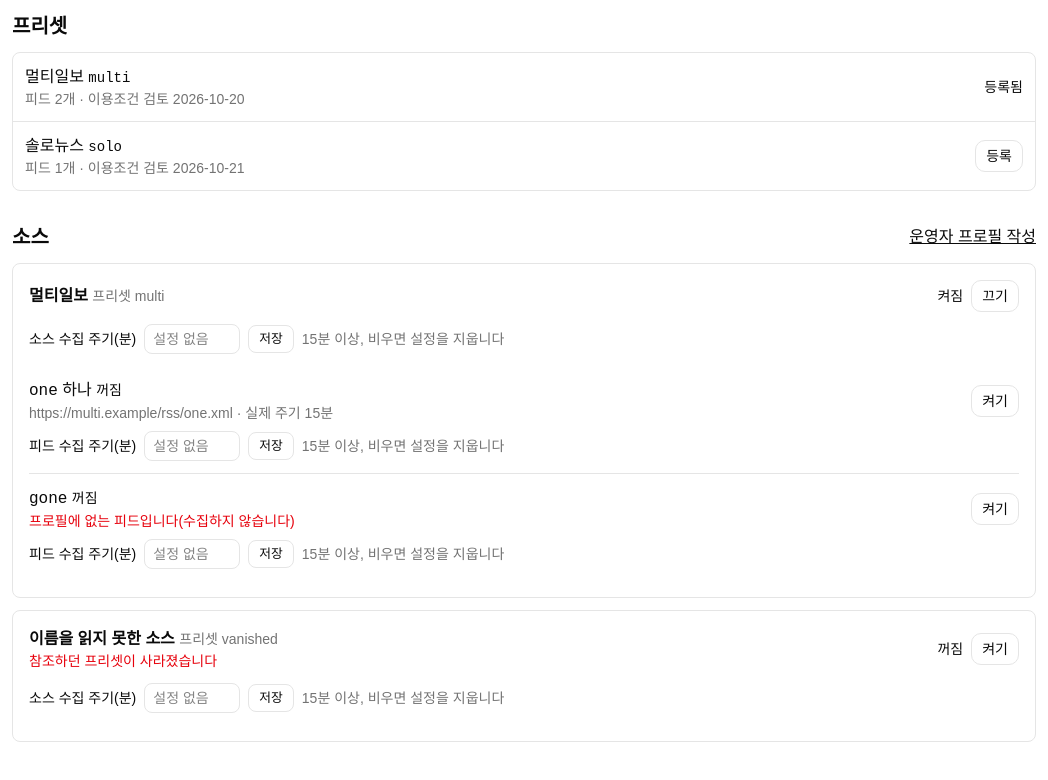
SourcesPage › 피드를 끄면 그 행의 켜기 결과를 지운다
The image size is (1048, 780).
Expected: the text "one" is shown, [29,382,58,400]
Click the button "켜기" in the row of "· 실제 주기": point(995, 400) [971,384,1019,416]
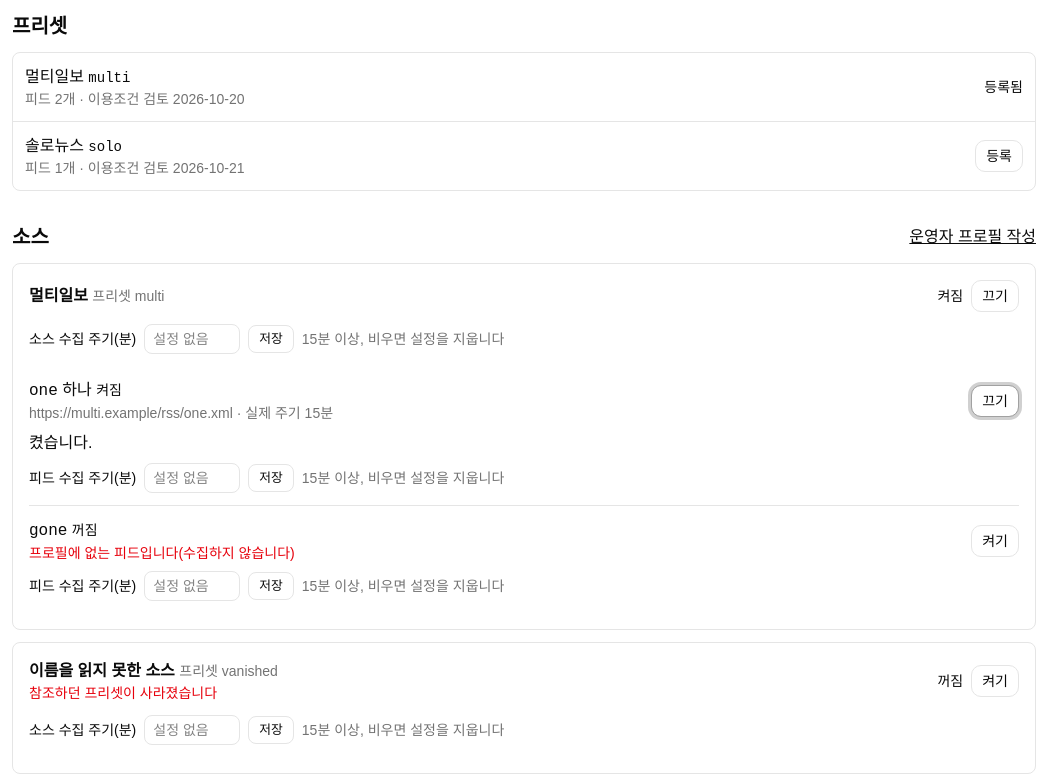
Now the text "켰습니다." is shown, box [29,434,92,451]
Click the button "끄기" in the row of "· 실제 주기": point(995, 400) [971,384,1019,416]
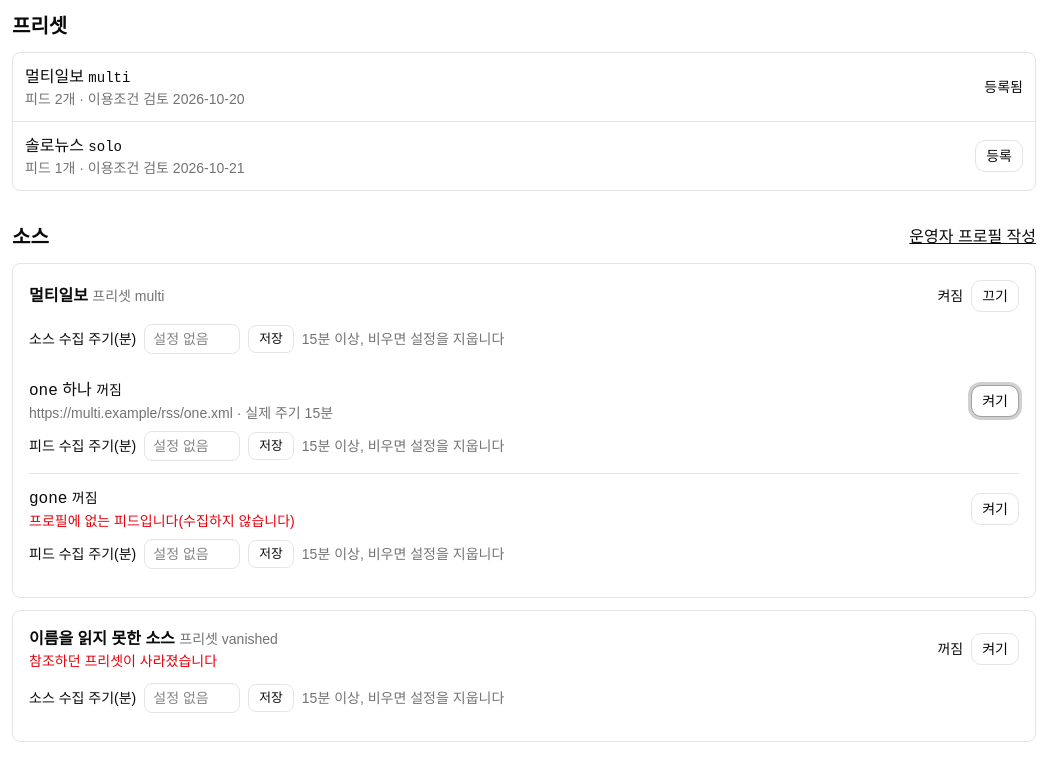
Now the button "켜기" in the row of "· 실제 주기" is shown, box [971,384,1019,416]
Now the text "꺼짐" next to "하나" is shown, box [96,382,122,398]
Now the text "켰습니다." is gone
